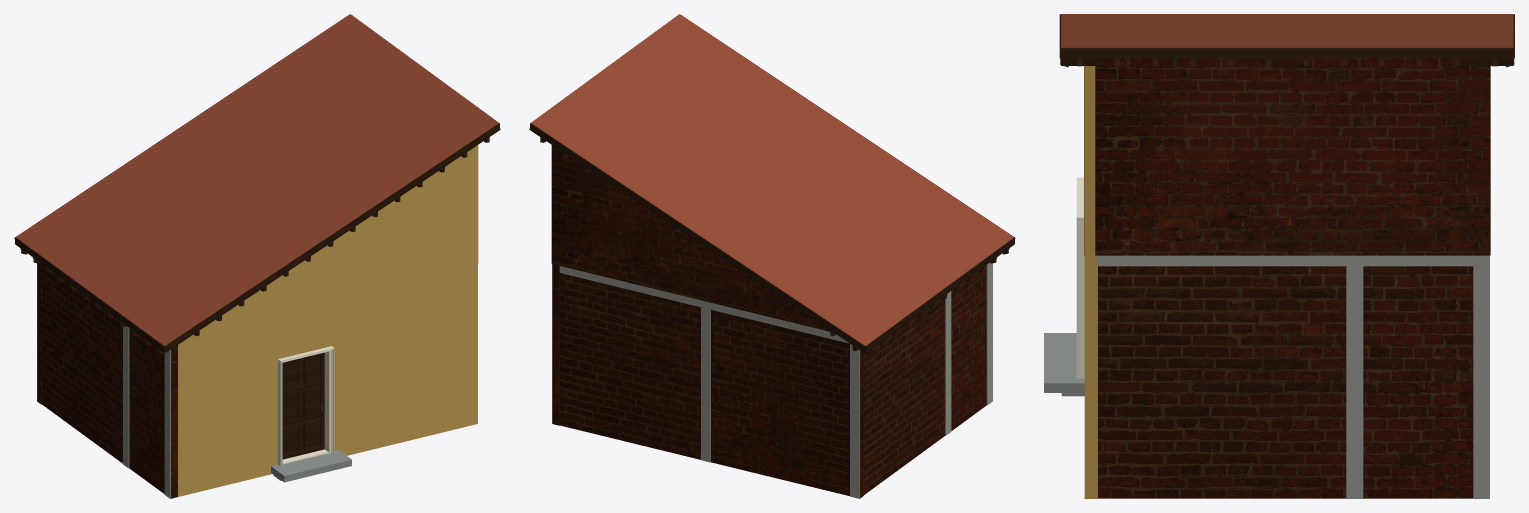
Rendered from building.glb.
3 renders of one model, left to right at view 1: azimuth 30°, elevation 25°; view 2: azimuth 150°, elevation 25°; view 3: azimuth 270°, elevation 25°, orthographic. The views are drawn at different scales.
Visible parts, largest first — view 1: roof_assembly/cubierta/roof_cover#0001, house:0/edge0/z0/house:0/edge0/z0/wall_0_0, house:0/edge3/z0/house:0/edge3/z0/wall_0_0, roof_assembly/cubierta/roof_gable_closure#0002, roof_assembly/cubierta/roof_fascia#0002, site/entrance/0/entrance_step#0002, roof_assembly/cubierta/roof_fascia#0001, house:0/edge3/z0/house:0/edge3/z0/column_1_0, house:0/edge3/z0/house:0/edge3/z0/column_2_0, house:0/edge0/z0/opening_u2.80_v0.12/door_panel_back#0001, house:0/edge2/z0/house:0/edge2/z0/wall_0_0, house:0/edge0/z0/opening_u2.80_v0.12/door_reveal#0001; view 2: roof_assembly/cubierta/roof_cover#0001, house:0/edge2/z0/house:0/edge2/z0/wall_0_0, house:0/edge3/z0/house:0/edge3/z0/wall_0_0, roof_assembly/cubierta/roof_gable_closure#0006, roof_assembly/cubierta/roof_fascia#0004, house:0/edge2/z0/house:0/edge2/z0/beam_0_0, house:0/edge2/z0/house:0/edge2/z0/column_2_0, house:0/edge2/z0/house:0/edge2/z0/column_1_0, house:0/edge1/z0/house:0/edge1/z0/wall_0_0, roof_assembly/cubierta/roof_fascia#0001, house:0/edge3/z0/house:0/edge3/z0/column_1_0, house:0/edge3/z0/house:0/edge3/z0/column_2_0 (+1 smaller); view 3: house:0/edge1/z0/house:0/edge1/z0/wall_0_0, roof_assembly/cubierta/roof_gable_closure#0004, roof_assembly/cubierta/roof_cover#0001, roof_assembly/cubierta/roof_fascia#0003, house:0/edge1/z0/house:0/edge1/z0/beam_0_0, house:0/edge1/z0/house:0/edge1/z0/column_2_0, house:0/edge1/z0/house:0/edge1/z0/column_1_0, house:0/edge0/z0/house:0/edge0/z0/wall_0_0, roof_assembly/cubierta/roof_gable_closure#0003, site/entrance/0/entrance_step#0002, house:0/edge0/z0/opening_u2.80_v0.12/door_moulding#0028.
Part boxes in pixels (<box>): roof_assembly/cubierta/roof_cover#0001: <box>16,14,498,346</box>; house:0/edge0/z0/house:0/edge0/z0/wall_0_0: <box>178,264,477,496</box>; house:0/edge3/z0/house:0/edge3/z0/wall_0_0: <box>42,264,177,498</box>; roof_assembly/cubierta/roof_gable_closure#0002: <box>199,145,477,331</box>; roof_assembly/cubierta/roof_fascia#0002: <box>163,124,500,352</box>; site/entrance/0/entrance_step#0002: <box>271,450,351,482</box>; roof_assembly/cubierta/roof_fascia#0001: <box>15,238,165,352</box>; house:0/edge3/z0/house:0/edge3/z0/column_1_0: <box>164,350,170,498</box>; house:0/edge3/z0/house:0/edge3/z0/column_2_0: <box>123,326,129,468</box>; house:0/edge0/z0/opening_u2.80_v0.12/door_panel_back#0001: <box>282,357,320,451</box>; house:0/edge2/z0/house:0/edge2/z0/wall_0_0: <box>37,262,41,404</box>; house:0/edge0/z0/opening_u2.80_v0.12/door_reveal#0001: <box>278,352,328,463</box>; roof_assembly/cubierta/roof_cover#0001: <box>531,14,1013,345</box>; house:0/edge2/z0/house:0/edge2/z0/wall_0_0: <box>560,273,863,498</box>; house:0/edge3/z0/house:0/edge3/z0/wall_0_0: <box>864,265,986,494</box>; roof_assembly/cubierta/roof_gable_closure#0006: <box>558,149,830,331</box>; roof_assembly/cubierta/roof_fascia#0004: <box>529,124,866,352</box>; house:0/edge2/z0/house:0/edge2/z0/beam_0_0: <box>559,266,849,343</box>; house:0/edge2/z0/house:0/edge2/z0/column_2_0: <box>701,307,710,462</box>; house:0/edge2/z0/house:0/edge2/z0/column_1_0: <box>850,344,859,498</box>; house:0/edge1/z0/house:0/edge1/z0/wall_0_0: <box>552,264,559,425</box>; roof_assembly/cubierta/roof_fascia#0001: <box>864,238,1014,352</box>; house:0/edge3/z0/house:0/edge3/z0/column_1_0: <box>986,262,992,405</box>; house:0/edge3/z0/house:0/edge3/z0/column_2_0: <box>945,291,951,435</box>; house:0/edge1/z0/house:0/edge1/z0/wall_0_0: <box>1098,266,1473,498</box>; roof_assembly/cubierta/roof_gable_closure#0004: <box>1095,58,1489,255</box>; roof_assembly/cubierta/roof_cover#0001: <box>1061,14,1513,47</box>; roof_assembly/cubierta/roof_fascia#0003: <box>1061,48,1513,58</box>; house:0/edge1/z0/house:0/edge1/z0/beam_0_0: <box>1098,255,1489,266</box>; house:0/edge1/z0/house:0/edge1/z0/column_2_0: <box>1346,266,1363,498</box>; house:0/edge1/z0/house:0/edge1/z0/column_1_0: <box>1473,266,1489,498</box>; house:0/edge0/z0/house:0/edge0/z0/wall_0_0: <box>1084,255,1097,498</box>; roof_assembly/cubierta/roof_gable_closure#0003: <box>1084,66,1095,255</box>; site/entrance/0/entrance_step#0002: <box>1044,333,1084,392</box>; house:0/edge0/z0/opening_u2.80_v0.12/door_moulding#0028: <box>1076,177,1084,378</box>.
Size of the model in its own units: 8.76 by 7.58 by 6.97.
Materials: 8 (2 with a texture image).
